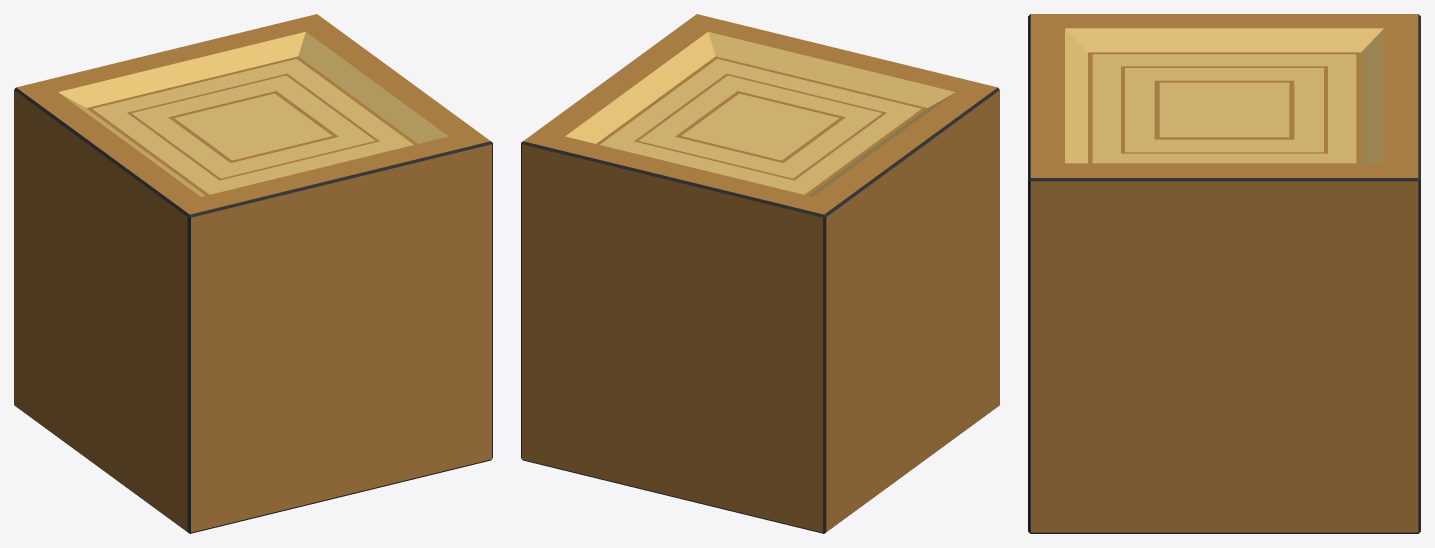
File: woodBlock.fbx
3 renders of one model, left to right at view 1: azimuth 30°, elevation 25°; view 2: azimuth 150°, elevation 25°; view 3: azimuth 270°, elevation 25°, orthographic. The views are drawn at different scales.
Parts seen in each view (by area): view 1: Cube; view 2: Cube; view 3: Cube.
Part boxes in pixels (left/top/right/bottom): Cube: left=14, top=14, right=492, bottom=533; Cube: left=521, top=14, right=999, bottom=533; Cube: left=1028, top=14, right=1420, bottom=533.
Size of the model in its own units: 200 by 200 by 200.
